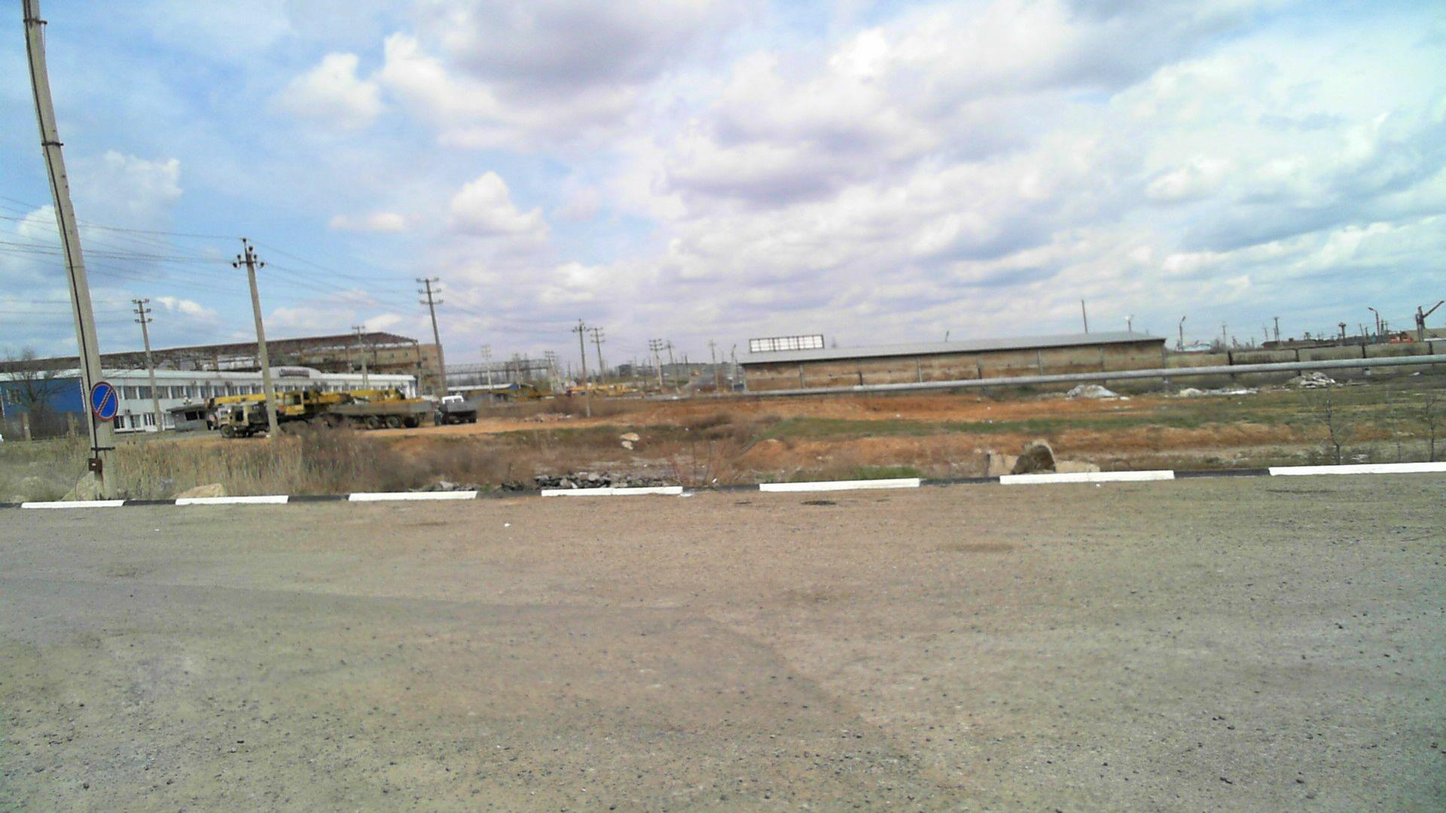road_sign: (91, 381, 118, 422)
